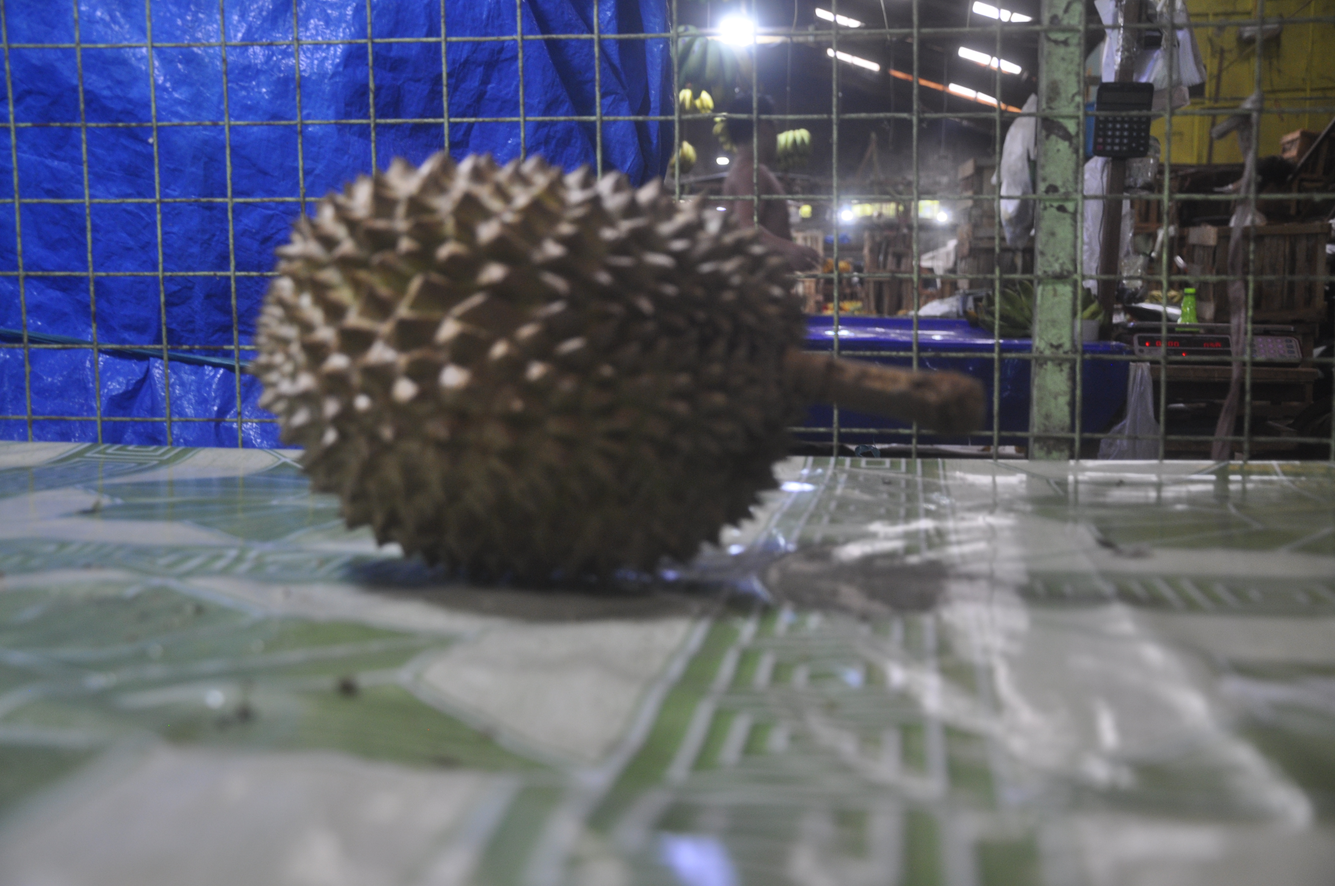mature: (251, 153, 984, 581)
